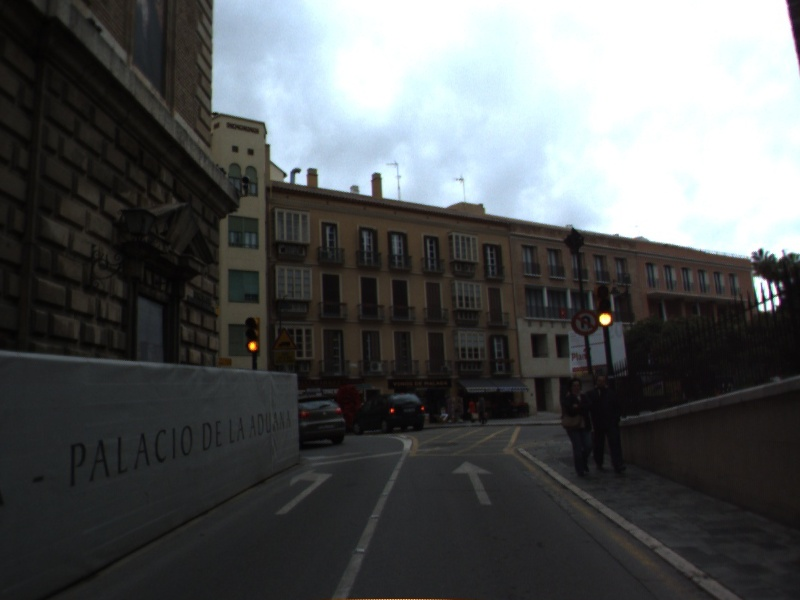LEFT: (272, 467, 336, 517)
STRAIGHT: (449, 458, 496, 507)
